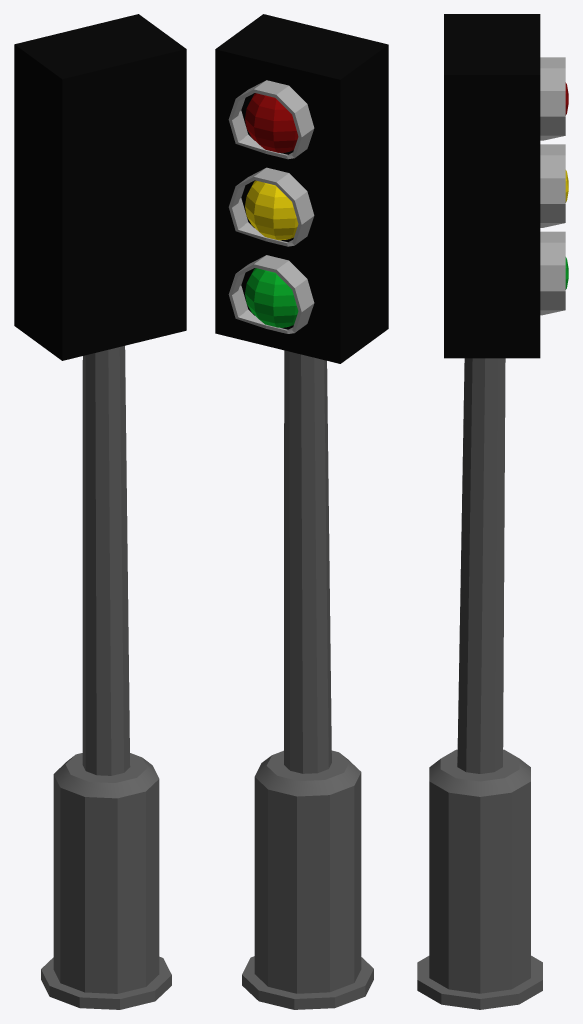
Rendered from Traffic Lamp.fbx.
The picture shows the model from 3 angles, left to right: view 1: azimuth 30°, elevation 25°; view 2: azimuth 150°, elevation 25°; view 3: azimuth 270°, elevation 25°; orthographic projection.
Parts seen in each view (by area): view 1: Traffic_Lamp; view 2: Traffic_Lamp; view 3: Traffic_Lamp.
Part boxes in pixels (<box>): Traffic_Lamp: <box>14,14,186,1009</box>; Traffic_Lamp: <box>215,14,388,1009</box>; Traffic_Lamp: <box>417,14,568,1009</box>.
Bounding box in the file's own units: 120 × 860 × 126.
